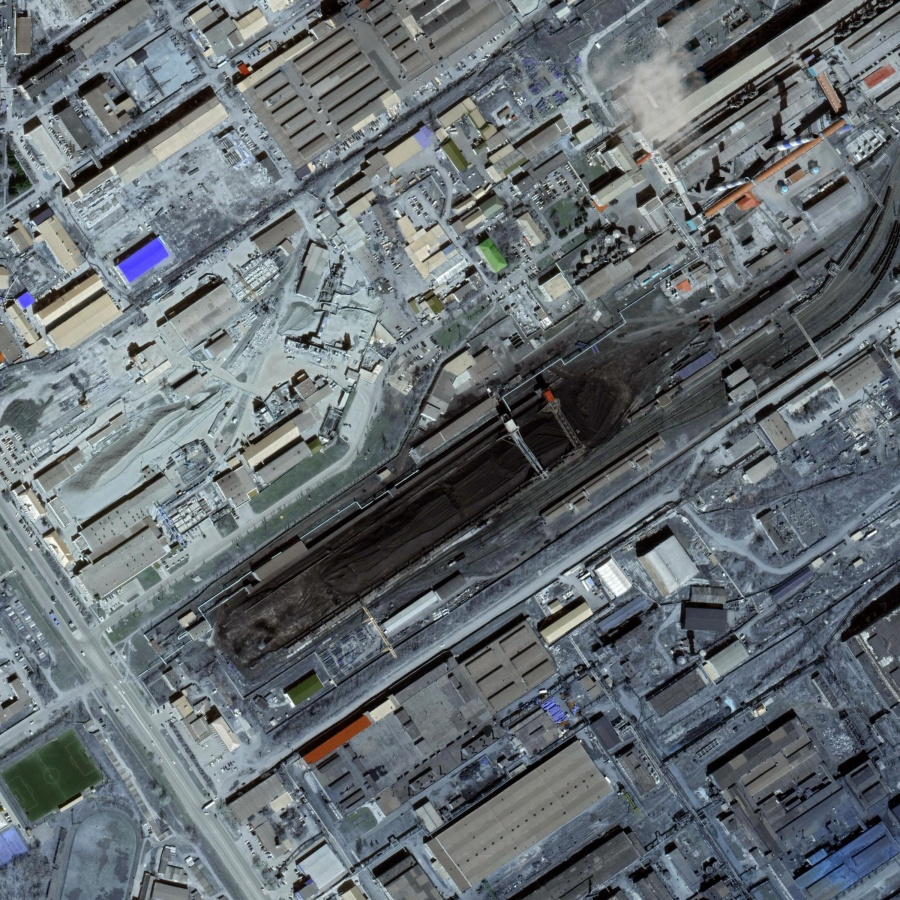PowerPlant: (190, 313, 663, 683)
